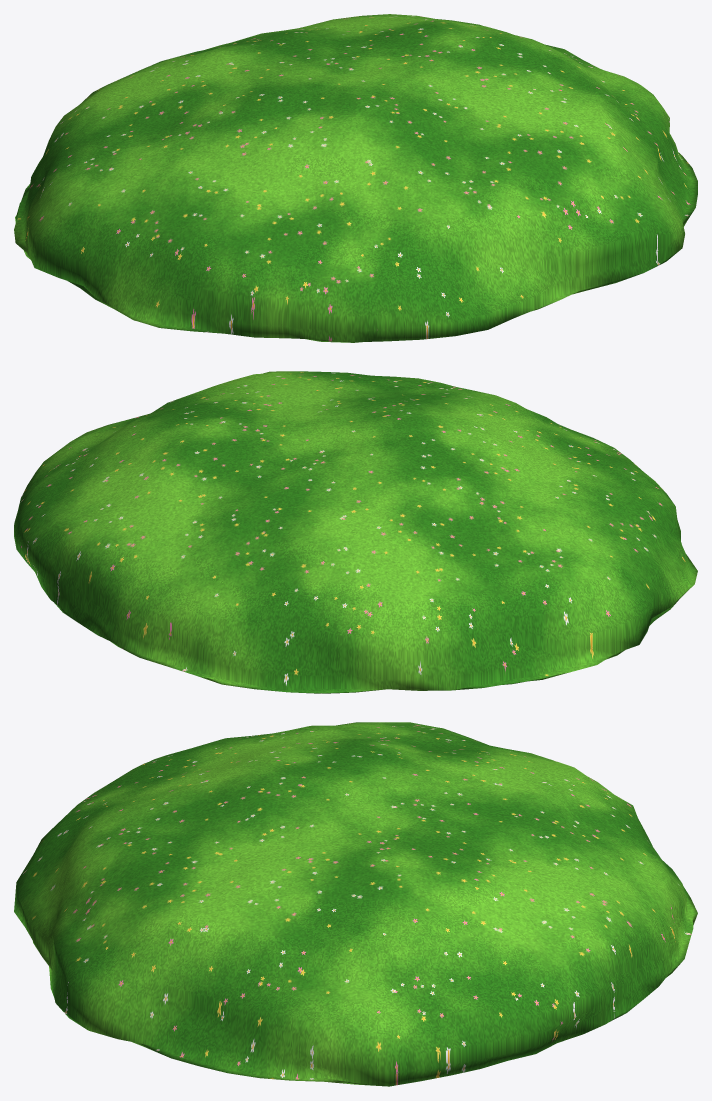
The model's file is planeta2_colina.obj.
The picture shows the model from 3 angles, top to bottom: view 1: azimuth 30°, elevation 25°; view 2: azimuth 150°, elevation 25°; view 3: azimuth 270°, elevation 25°; orthographic projection. The views are drawn at different scales.
Visible parts, largest first — view 1: planeta2_colina; view 2: planeta2_colina; view 3: planeta2_colina.
Boxes of the visible parts, x1,y1,x2,y2 form: planeta2_colina: (14,14,697,342); planeta2_colina: (14,371,697,693); planeta2_colina: (14,722,697,1086).
Size of the model in its own units: 2.05 by 0.4345 by 1.86.
